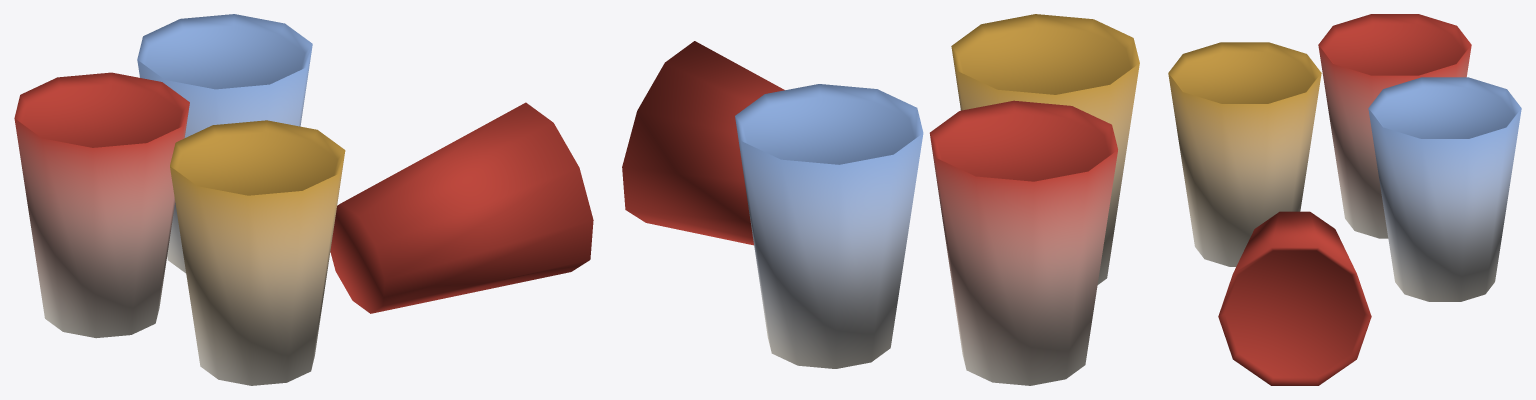
Rendered from paper_cups.glb.
The picture shows the model from 3 angles, left to right: view 1: azimuth 30°, elevation 25°; view 2: azimuth 150°, elevation 25°; view 3: azimuth 270°, elevation 25°; orthographic projection. The views are drawn at different scales.
Visible parts, largest first — view 1: paper_cups; view 2: paper_cups; view 3: paper_cups.
Part boxes in pixels (box(x1,y1,x2,y2)): paper_cups: box(14, 14, 593, 385); paper_cups: box(622, 14, 1139, 385); paper_cups: box(1168, 14, 1521, 385).
Size of the model in its own units: 0.2786 by 0.1163 by 0.212.
